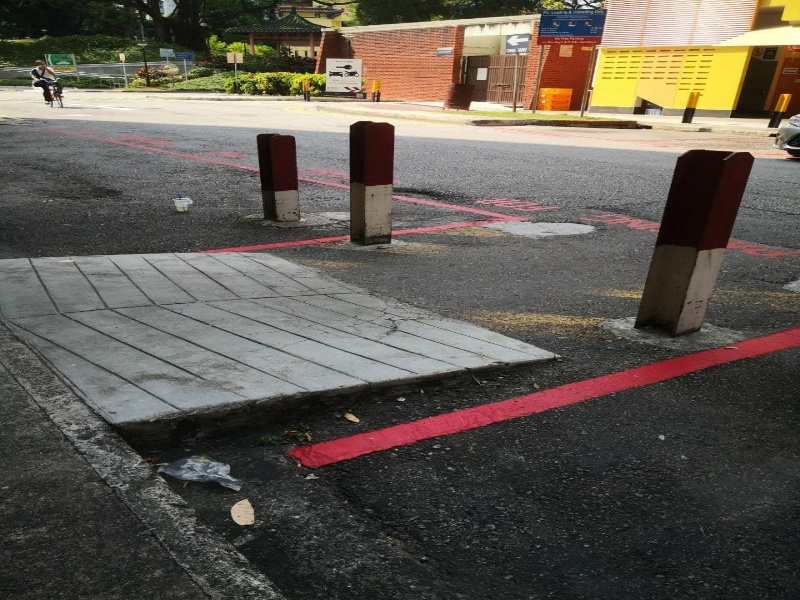slope: (1, 257, 586, 365)
